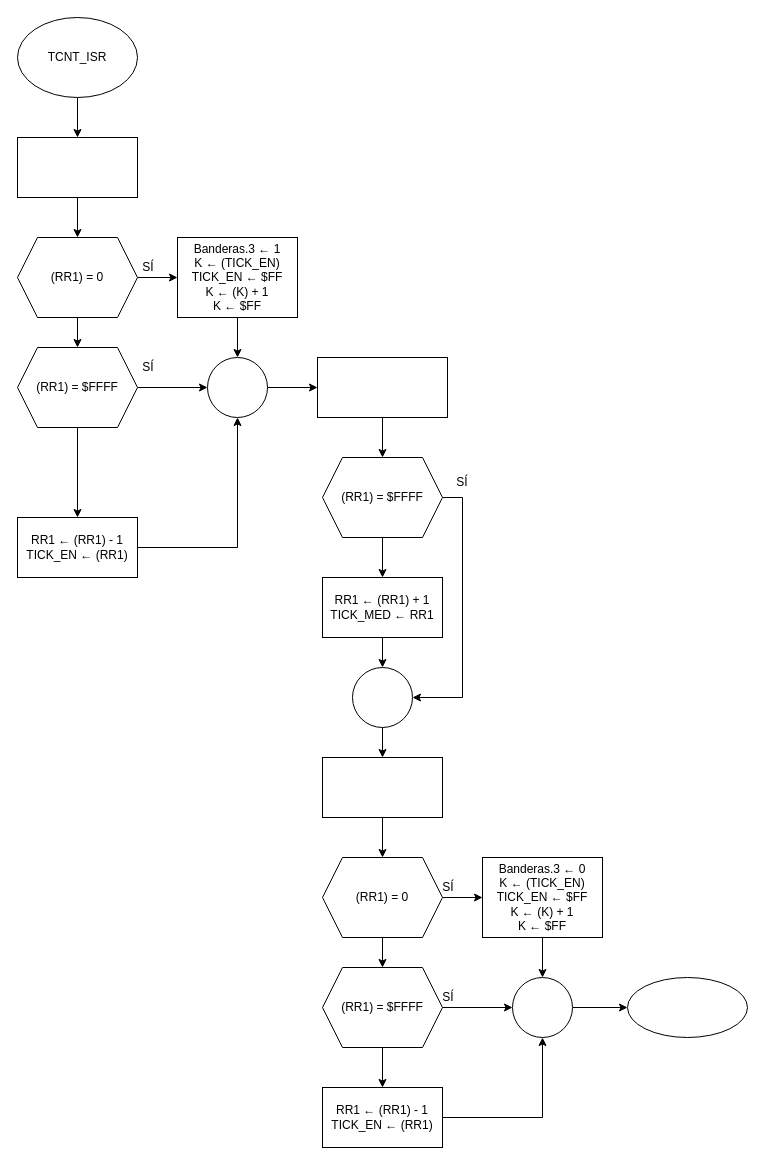
Image size: 765x1165. Some labels were removed from this diagram. The centre of each missing label's shape, as x and y in pixels:
"RETORNAR" goes at point 687,1007.
"RR1 ← (TICK_MED)" goes at point 382,387.
"RR1 ← TICK_DIS" goes at point 382,787.
"TFLG2.7 ← 1 RR1 ← TICK_EN" goes at point 77,167.
